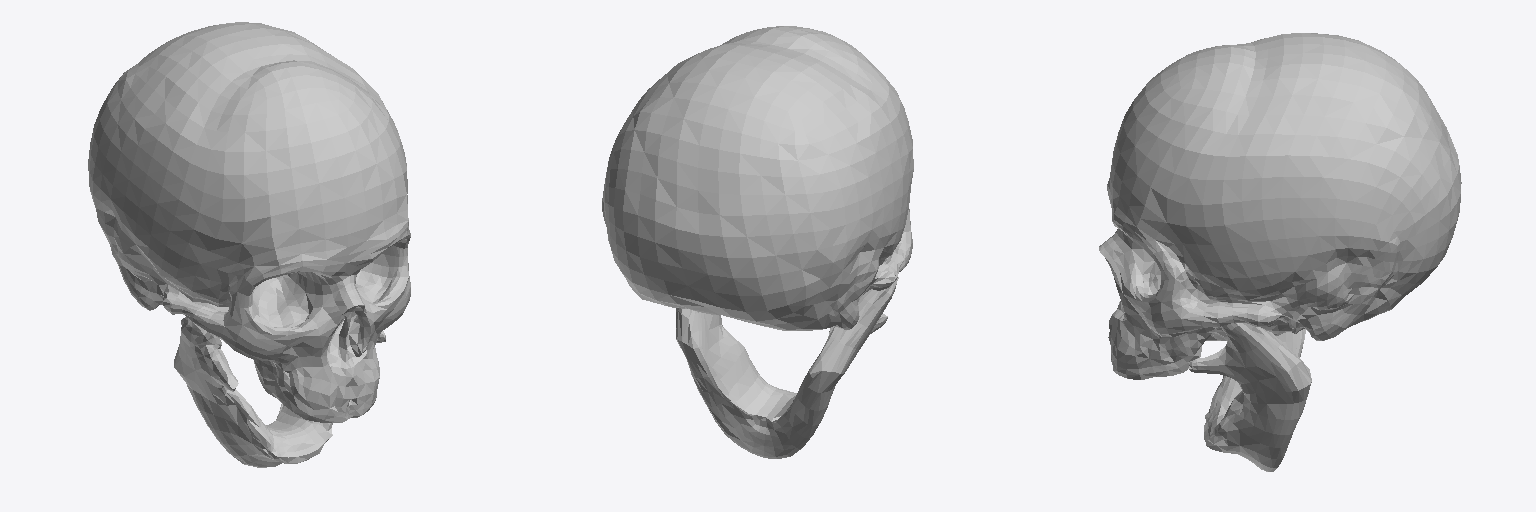
Rendered from skull.OBJ.
3 views of the same model, side by side, from view 1: azimuth 30°, elevation 25°; view 2: azimuth 150°, elevation 25°; view 3: azimuth 270°, elevation 25° (orthographic).
Parts seen in each view (by area): view 1: ZBrush_defualt_group001; view 2: ZBrush_defualt_group001; view 3: ZBrush_defualt_group001.
Part boxes in pixels (x1,y1,x2,y2): ZBrush_defualt_group001: (88,22,410,467); ZBrush_defualt_group001: (602,26,913,458); ZBrush_defualt_group001: (1099,33,1461,471).
Bounding box in the file's own units: 0.4856 × 0.7733 × 0.6129.